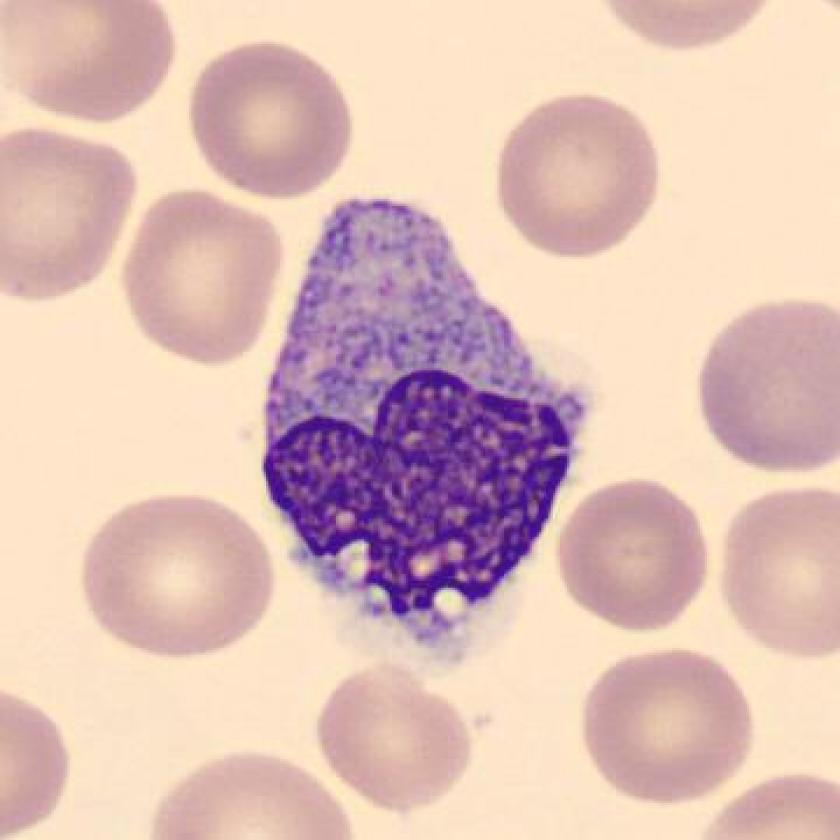monocyte: (234, 179, 610, 686)
